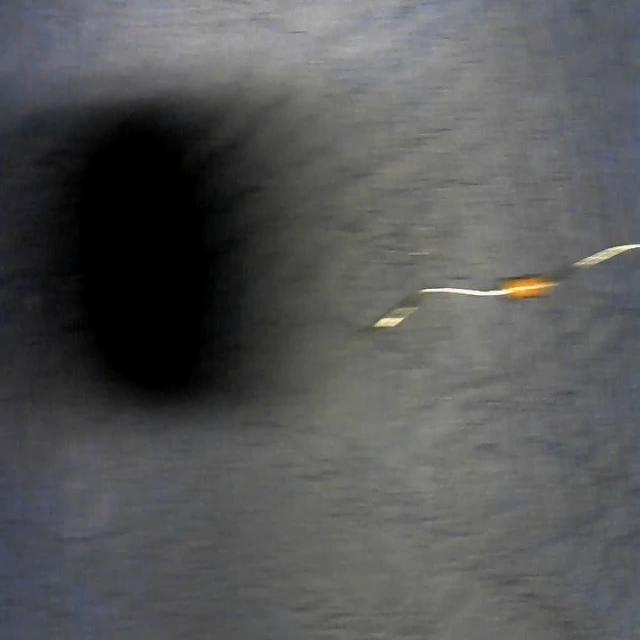resistor: (362, 234, 640, 330)
